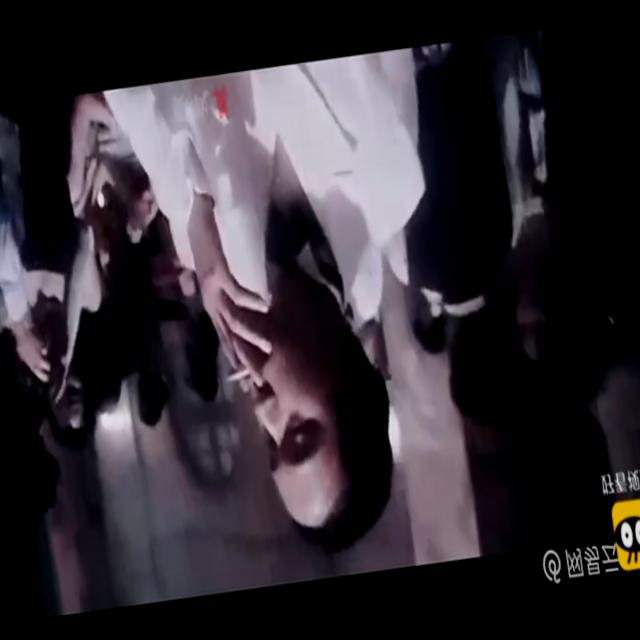cigarette: (221, 358, 261, 389)
